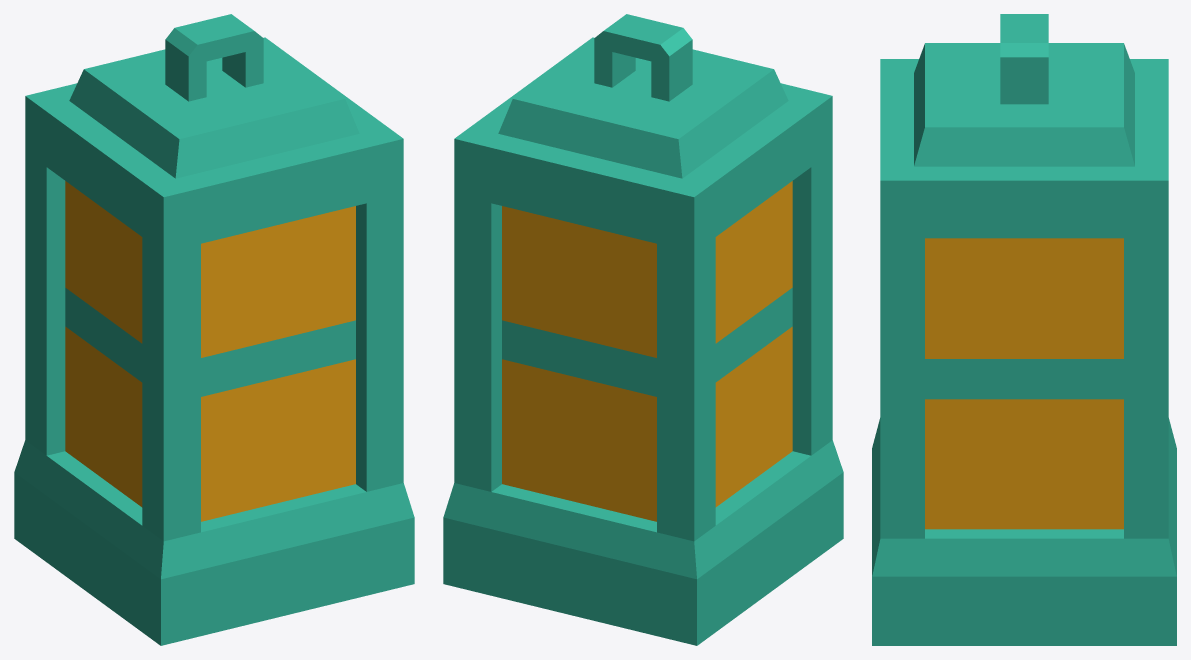
File: d_kenney_lanterne_verre.glb
3 views of the same model, side by side, from view 1: azimuth 30°, elevation 25°; view 2: azimuth 150°, elevation 25°; view 3: azimuth 270°, elevation 25° (orthographic). The views are drawn at different scales.
Parts seen in each view (by area): view 1: d_kenney_lanterne_verre; view 2: d_kenney_lanterne_verre; view 3: d_kenney_lanterne_verre.
Part boxes in pixels (bbox=[...]): d_kenney_lanterne_verre: bbox=[14, 14, 414, 645]; d_kenney_lanterne_verre: bbox=[443, 14, 843, 645]; d_kenney_lanterne_verre: bbox=[872, 14, 1176, 645].
Bounding box in the file's own units: 0.1459 × 0.2923 × 0.1459.
1 material, 1 textured.
